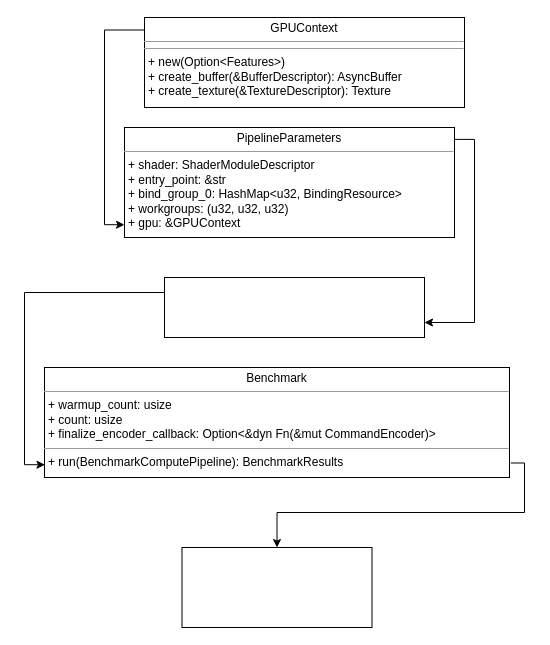
This 550x645 diagram has some shape labels left out. Each missing label, with the centre of its shape:
"BenchmarkComputePipeline + new(PipelineParameters)" belongs at point 294,307.
"BenchmarkResults + count: usize + total_time_spent: f64" belongs at point 276,587.
